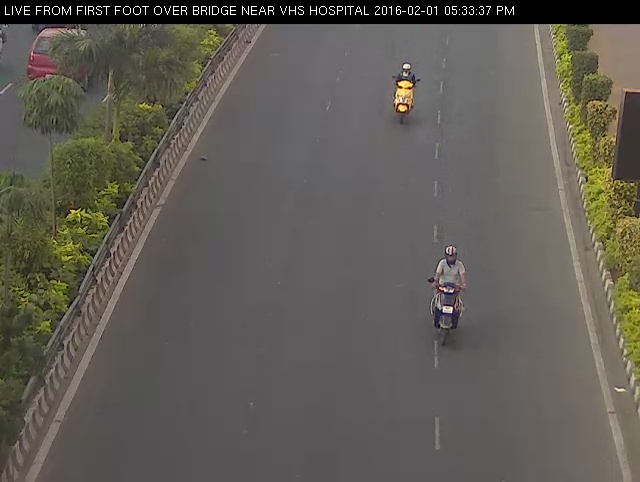Person: (424, 233, 470, 349), (384, 55, 427, 136)
